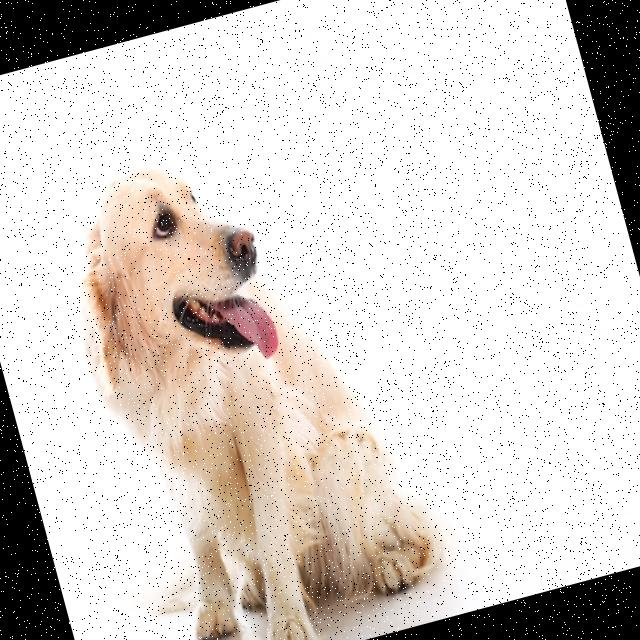Dog: (44, 120, 462, 640)
